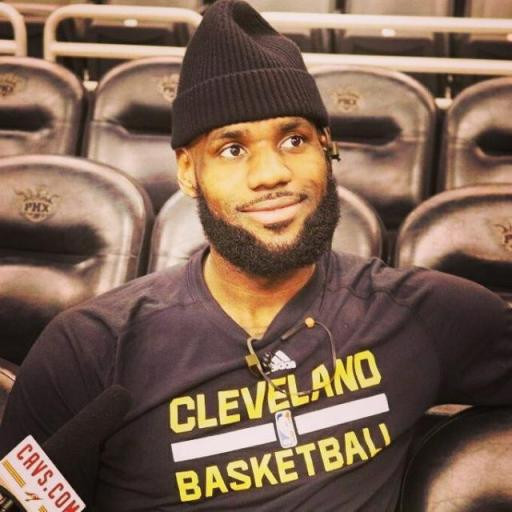Adidas: (264, 346, 298, 374)
